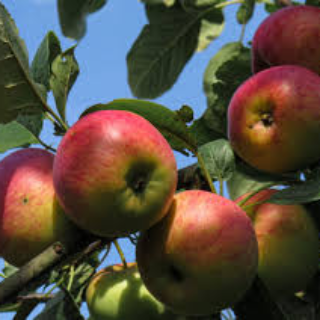tao: (53, 105, 180, 237), (138, 187, 259, 312)
